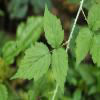Raspberry leaf: (9, 41, 51, 81), (43, 2, 65, 48), (50, 47, 70, 96), (75, 26, 94, 68), (87, 2, 99, 31), (90, 32, 99, 68)
